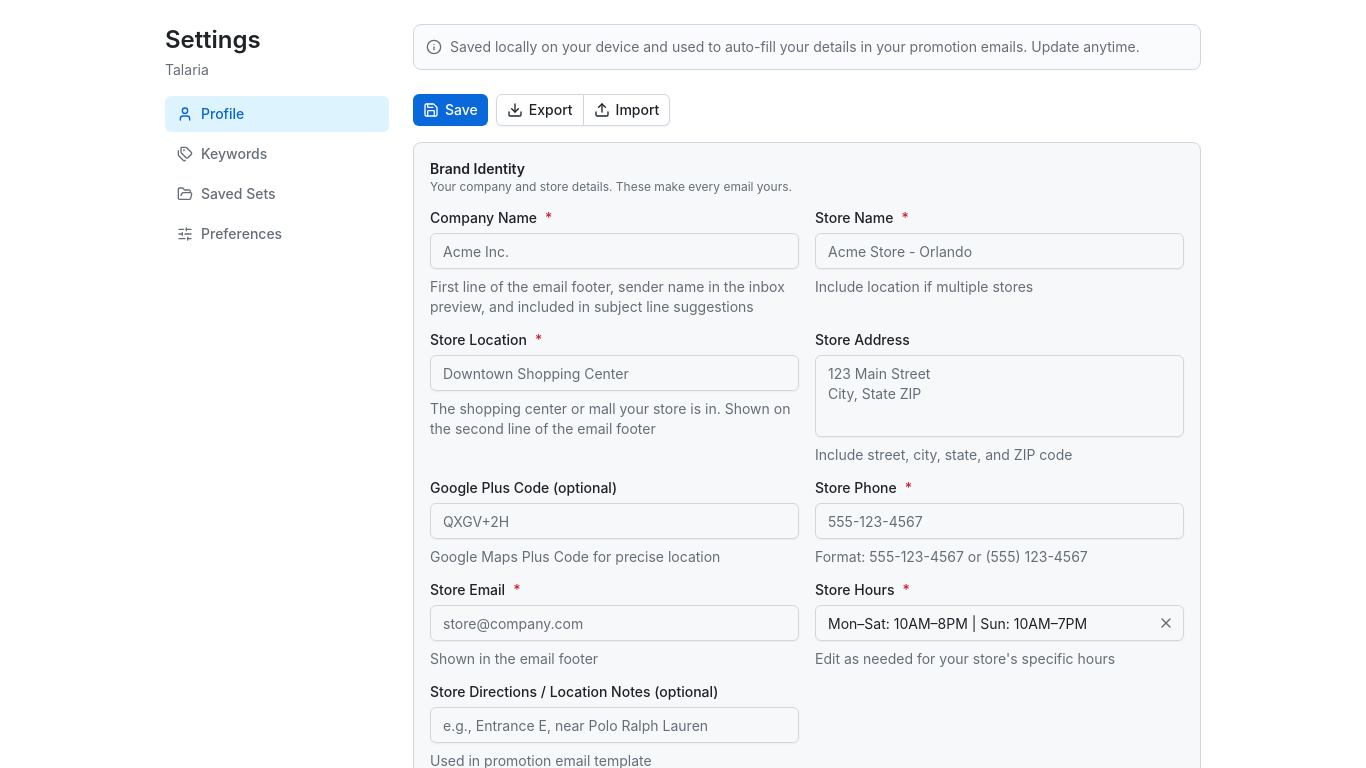
Test: ProfileSettingsPage › renders the preferences section with palette selectors
What coordinates should you click on to do the following:
click the button "Preferences"
I would click on:
 (277, 234)
Its box is [165,216,389,252].
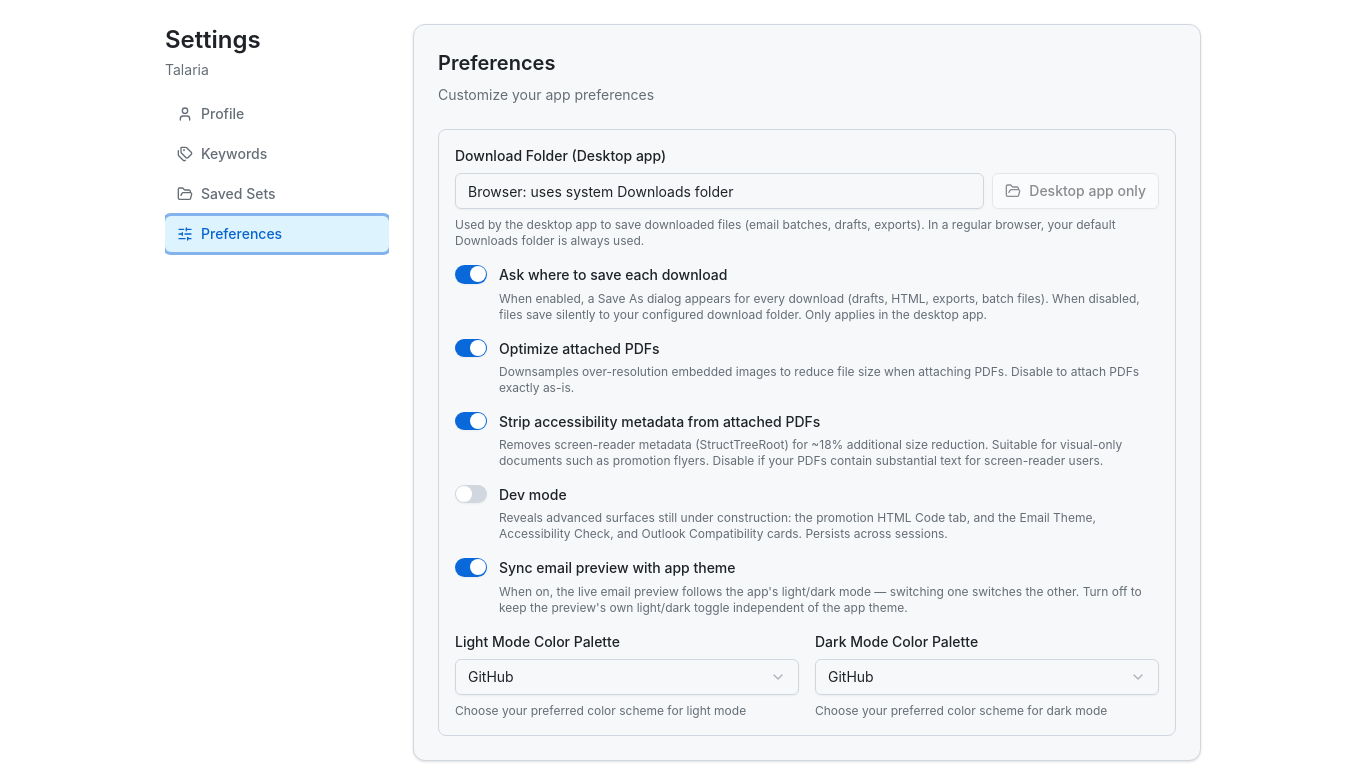
Expected: the text "Light Mode Color Palette" is shown, [455,632,620,650]
Expected: the text "Dark Mode Color Palette" is shown, [815,632,978,650]
Expected: the text "Download Folder (Desktop app)" is shown, [455,147,666,164]
